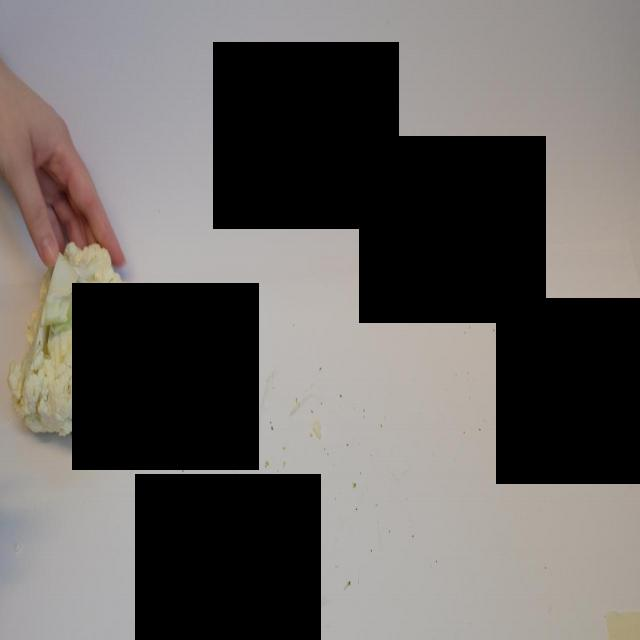cauliflower: (10, 235, 151, 453)
